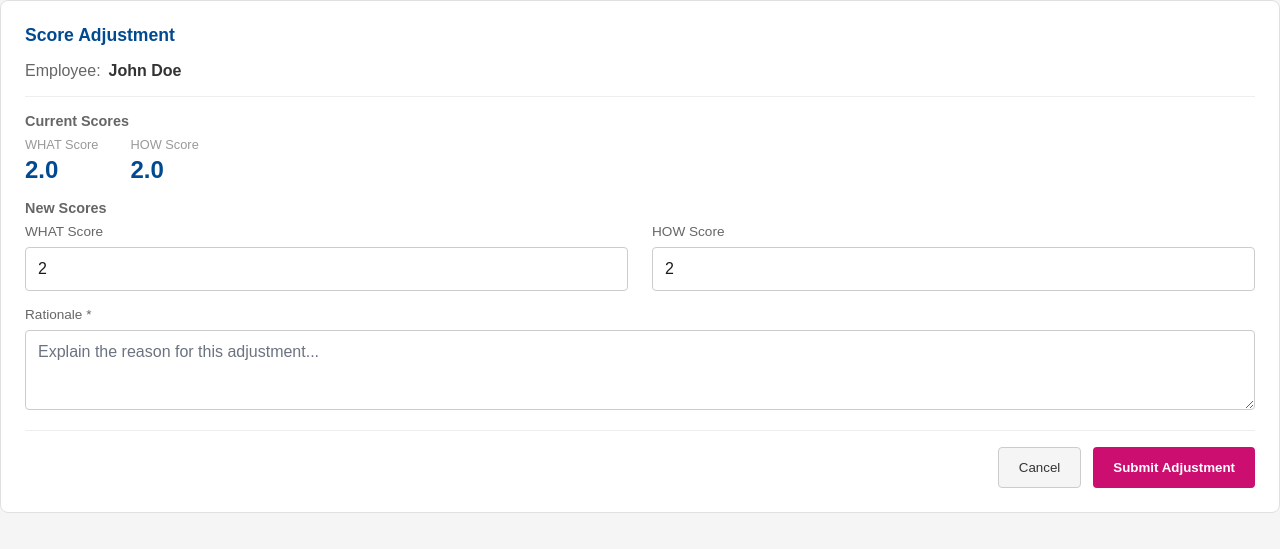
it: ScoreAdjustmentPanel › rationale validation › should clear error when rationale is entered
The width and height of the screenshot is (1280, 549).
Replace the text in the number field named "whatScore" with "2.5" at (326, 269), box [25,247,628,291]
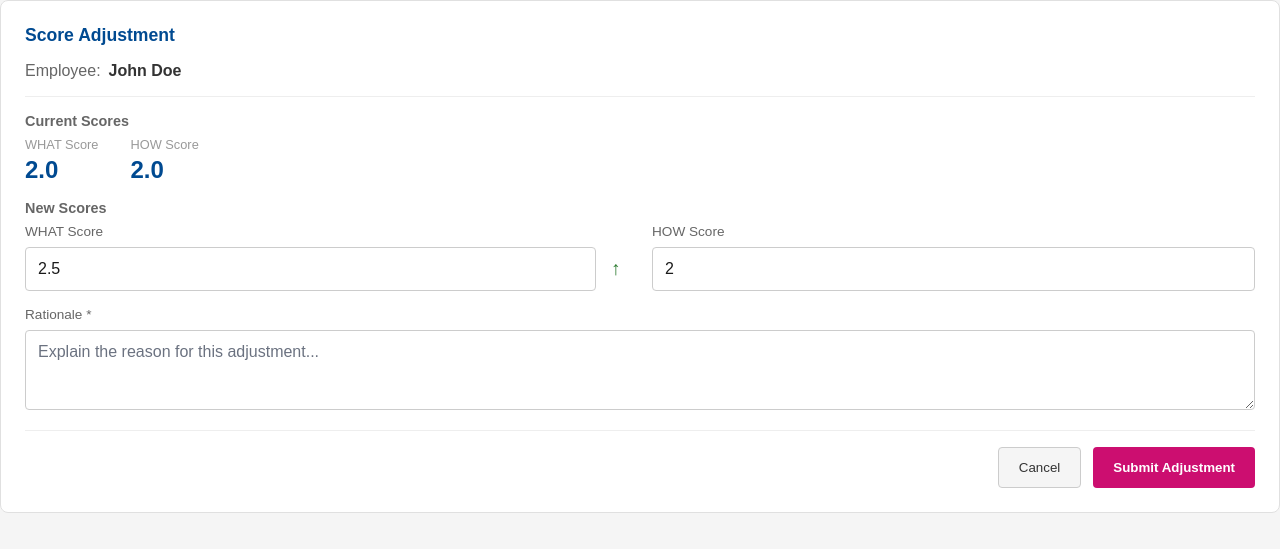
Submit the form, box [25,200,1255,488]
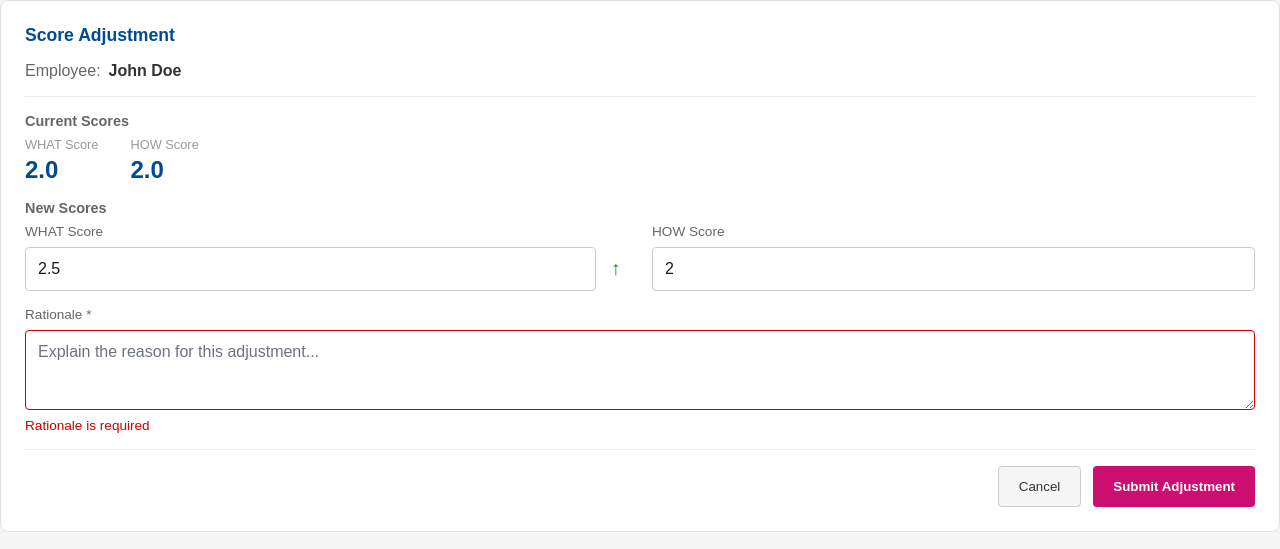
Result: the text "Rationale is required" is shown at [25,418,150,433]
Type "Test rationale" into the text box named "rationale".
click(640, 370); type("Test rationale")  # box [25,330,1255,410]
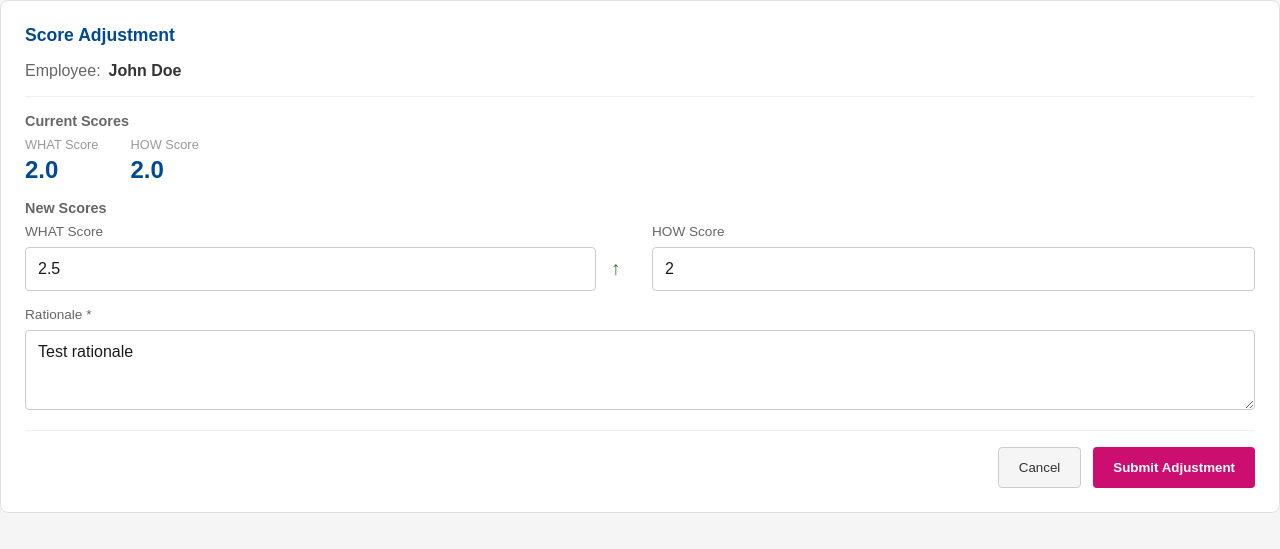
Result: the text "Rationale is required" is gone
